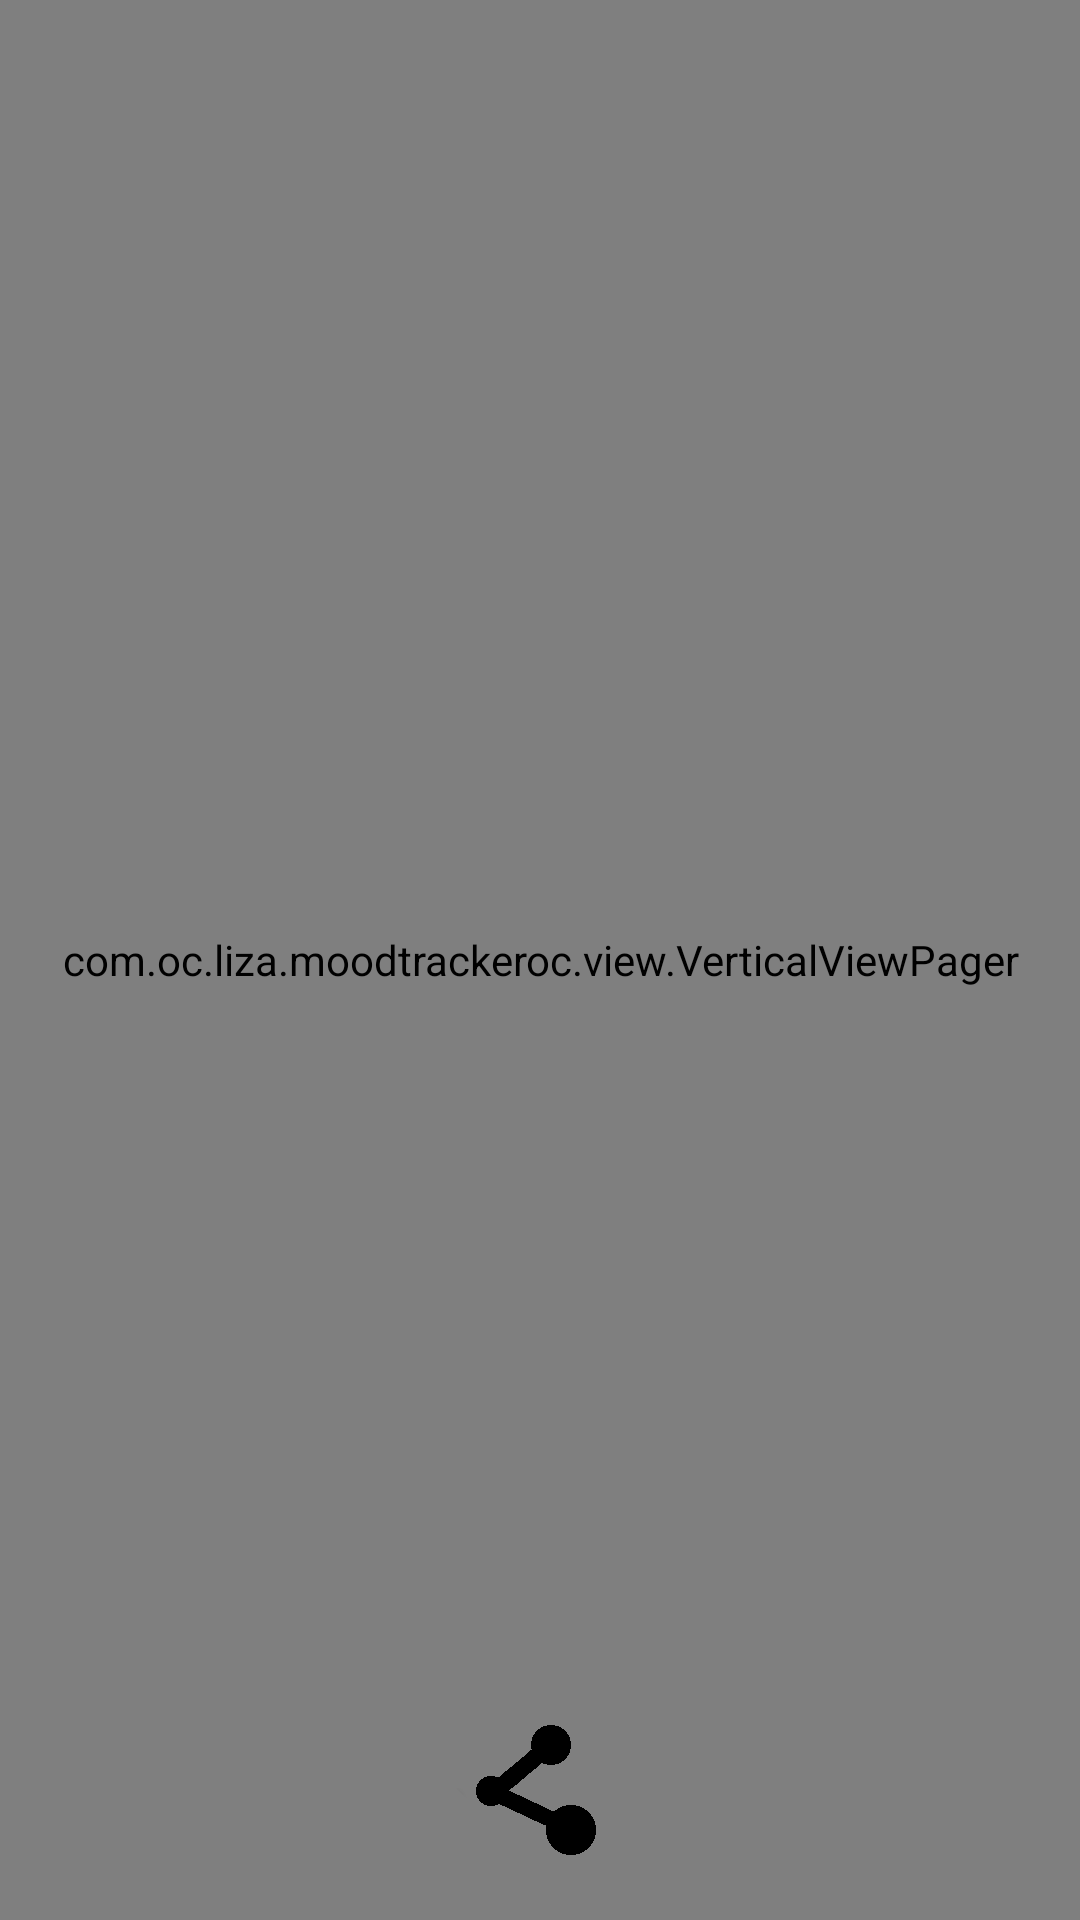

Icon bounding boxes for this 1080×1920 phone screenshot, format (x1, y1, x2, y2):
Share mood: (476, 1725, 596, 1855)
